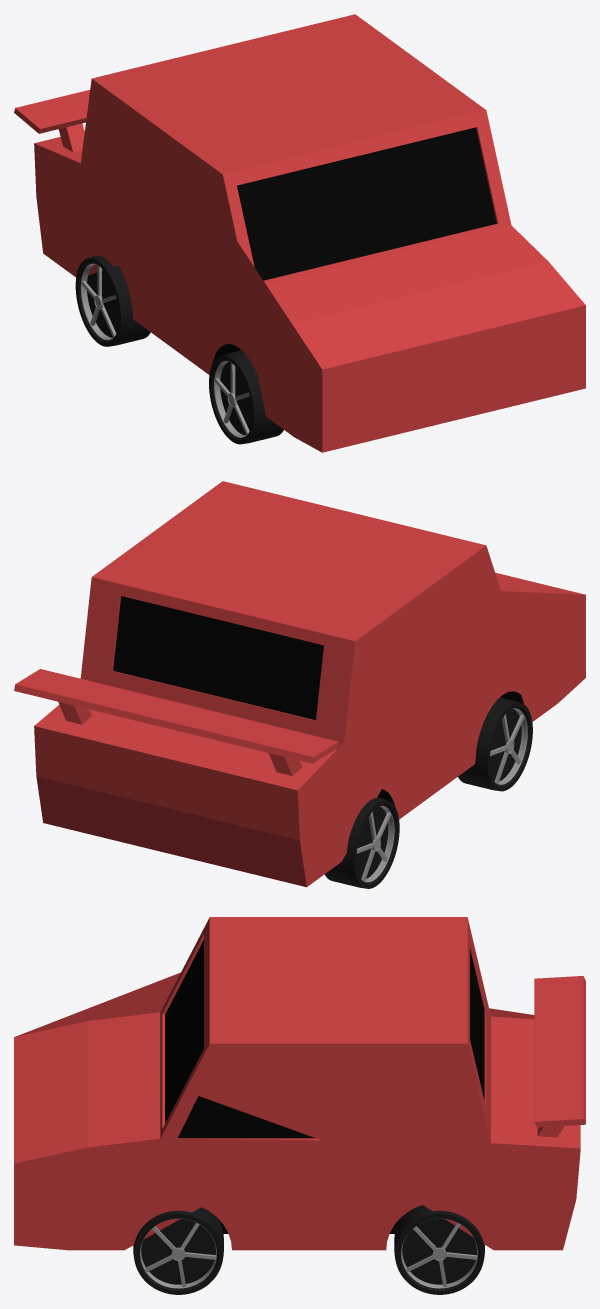
File: Cear.fbx
3 views of the same model, one above another, from view 1: azimuth 30°, elevation 25°; view 2: azimuth 150°, elevation 25°; view 3: azimuth 270°, elevation 25° (orthographic).
Parts seen in each view (by area): view 1: Car, FrontRigthWheel, RearRightWheel, Cube.002, Cube.001; view 2: Car, Cube.002, FrontRigthWheel, RearRightWheel; view 3: Car, Cube.002, RearLeftWheel, FrontLeftWheel.
Boxes of the visible parts, x1,y1,x2,y2 form: Car: (34, 14, 585, 452); FrontRigthWheel: (209, 350, 283, 444); RearRightWheel: (75, 255, 150, 346); Cube.002: (14, 90, 89, 133); Cube.001: (58, 123, 84, 152); Car: (34, 481, 585, 887); Cube.002: (14, 669, 338, 763); FrontRigthWheel: (458, 697, 532, 791); RearRightWheel: (324, 797, 399, 888); Car: (14, 917, 580, 1250); Cube.002: (534, 976, 585, 1127); RearLeftWheel: (394, 1205, 484, 1294); FrontLeftWheel: (133, 1207, 223, 1294).
Size of the model in its own units: 431 by 349 by 727.
